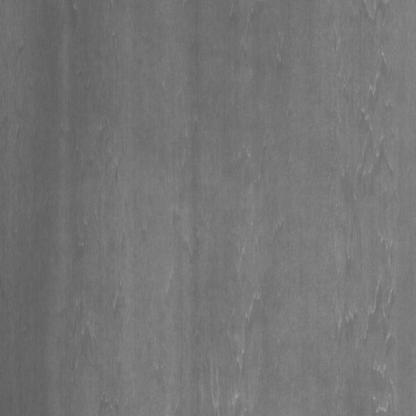silk_spot: (327, 48, 396, 371), (205, 200, 262, 414)
